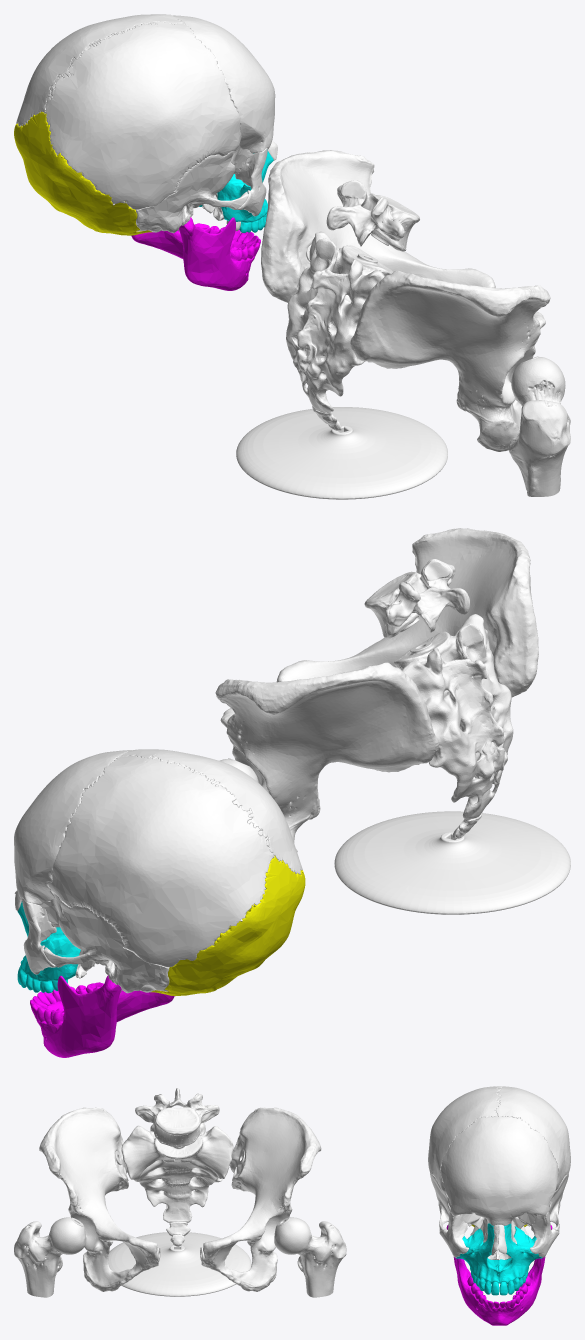
Rendered from ANATOMIA.glb.
3 renders of one model, top to bottom at view 1: azimuth 30°, elevation 25°; view 2: azimuth 150°, elevation 25°; view 3: azimuth 270°, elevation 25°, orthographic. The views are drawn at different scales.
Parts seen in each view (by area): view 1: Object.8, Object.6, Object.1, Object.3, Object.2, Object.7, Object.5; view 2: Object.8, Object.3, Object.1, Object.6, Object.2, Object.5; view 3: Object.8, Object.3, Object.6, Object.2, Object.1, Object.4, Object.7, Object.5.
Part boxes in pixels (left/top/right/bottom): Object.8: left=14, top=14, right=277, bottom=290; Object.6: left=350, top=270, right=550, bottom=451; Object.1: left=236, top=407, right=447, bottom=499; Object.3: left=261, top=150, right=495, bottom=362; Object.2: left=286, top=231, right=393, bottom=430; Object.7: left=508, top=356, right=570, bottom=496; Object.5: left=326, top=180, right=419, bottom=251; Object.8: left=14, top=749, right=305, bottom=1057; Object.3: left=215, top=662, right=439, bottom=851; Object.1: left=334, top=811, right=570, bottom=914; Object.6: left=276, top=528, right=538, bottom=764; Object.2: left=394, top=614, right=513, bottom=838; Object.5: left=364, top=559, right=469, bottom=638; Object.8: left=428, top=1086, right=570, bottom=1325; Object.3: left=200, top=1107, right=321, bottom=1291; Object.6: left=39, top=1107, right=160, bottom=1291; Object.2: left=121, top=1122, right=233, bottom=1246; Object.1: left=108, top=1232, right=251, bottom=1296; Object.4: left=274, top=1217, right=346, bottom=1297; Object.7: left=14, top=1217, right=86, bottom=1297; Object.5: left=135, top=1088, right=219, bottom=1147.
Size of the model in its own units: 0.3331 by 0.3333 by 0.8534.
